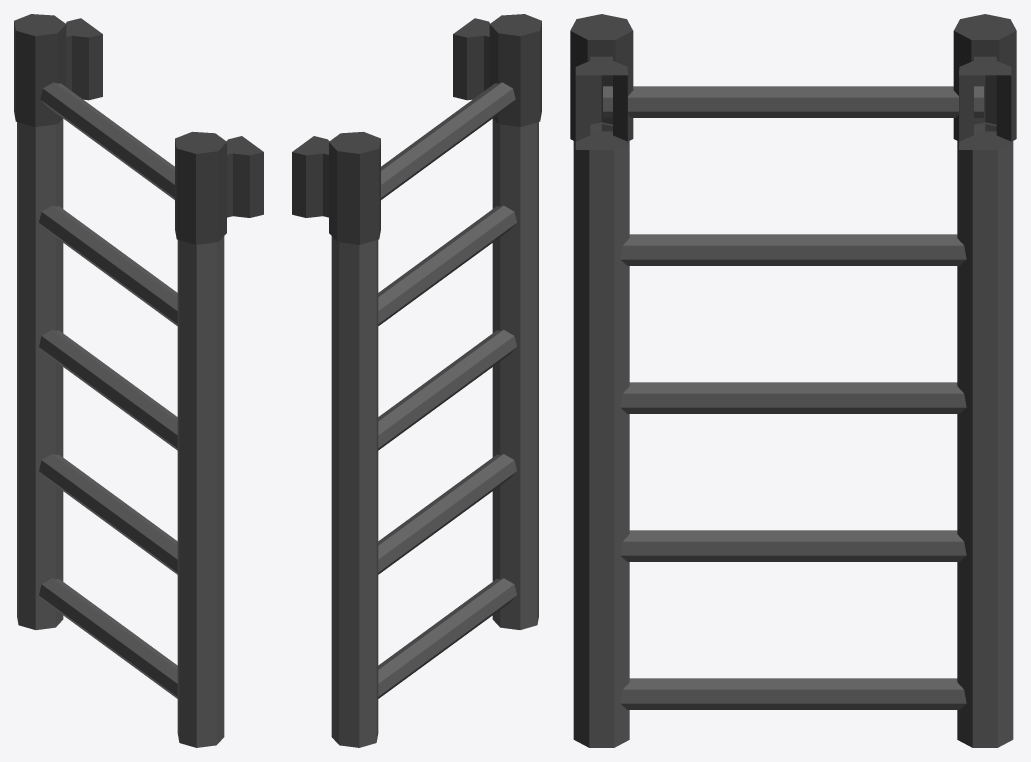
File: VerticalLadder1-3.fbx
The picture shows the model from 3 angles, left to right: view 1: azimuth 30°, elevation 25°; view 2: azimuth 150°, elevation 25°; view 3: azimuth 270°, elevation 25°; orthographic projection. The views are drawn at different scales.
Visible parts, largest first — view 1: VerticalLadder_LOD0.002; view 2: VerticalLadder_LOD0.002; view 3: VerticalLadder_LOD0.002.
Boxes of the visible parts, <box> form: VerticalLadder_LOD0.002: <box>14,14,263,747</box>; VerticalLadder_LOD0.002: <box>292,14,541,747</box>; VerticalLadder_LOD0.002: <box>570,14,1016,747</box>.
Size of the model in its own units: 44.5 by 332 by 189.
Materials: 1 (1 with a texture image).
